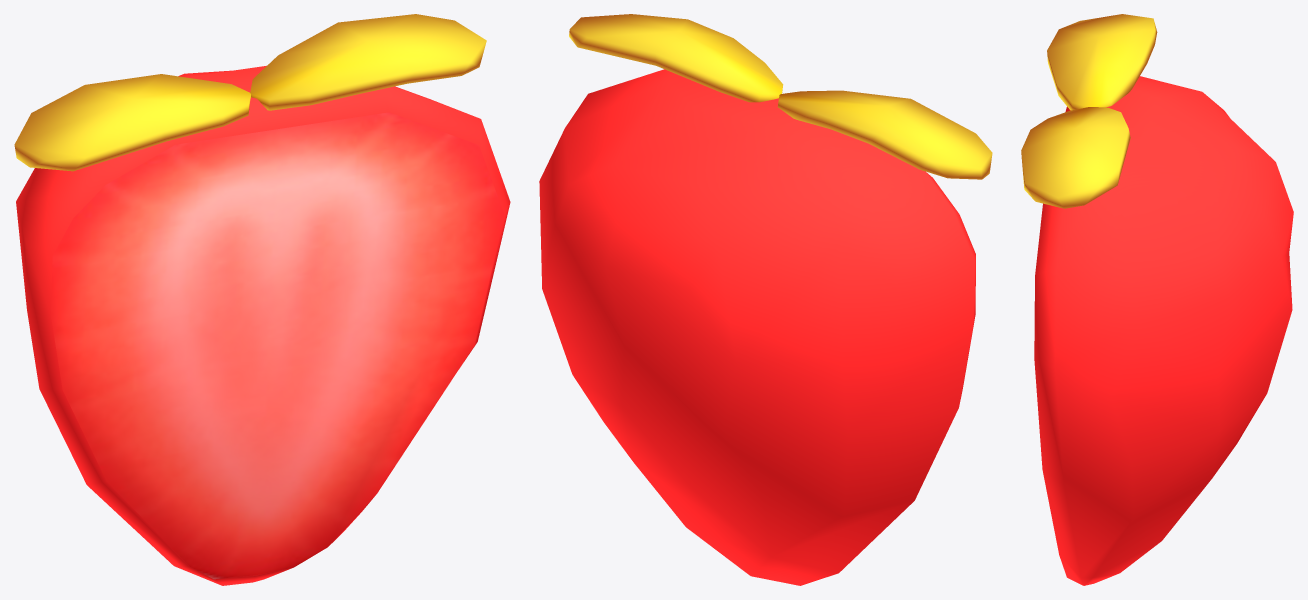
The model's file is red_strawberry_half.glb.
3 views of the same model, side by side, from view 1: azimuth 30°, elevation 25°; view 2: azimuth 150°, elevation 25°; view 3: azimuth 270°, elevation 25° (orthographic). The views are drawn at different scales.
Parts seen in each view (by area): view 1: red_strawberry_half; view 2: red_strawberry_half; view 3: red_strawberry_half.
Boxes of the visible parts, <box> form: red_strawberry_half: <box>14,14,510,585</box>; red_strawberry_half: <box>539,14,992,585</box>; red_strawberry_half: <box>1021,14,1293,585</box>.
Bounding box in the file's own units: 0.4377 × 0.4746 × 0.2347.
1 material, 1 textured.
